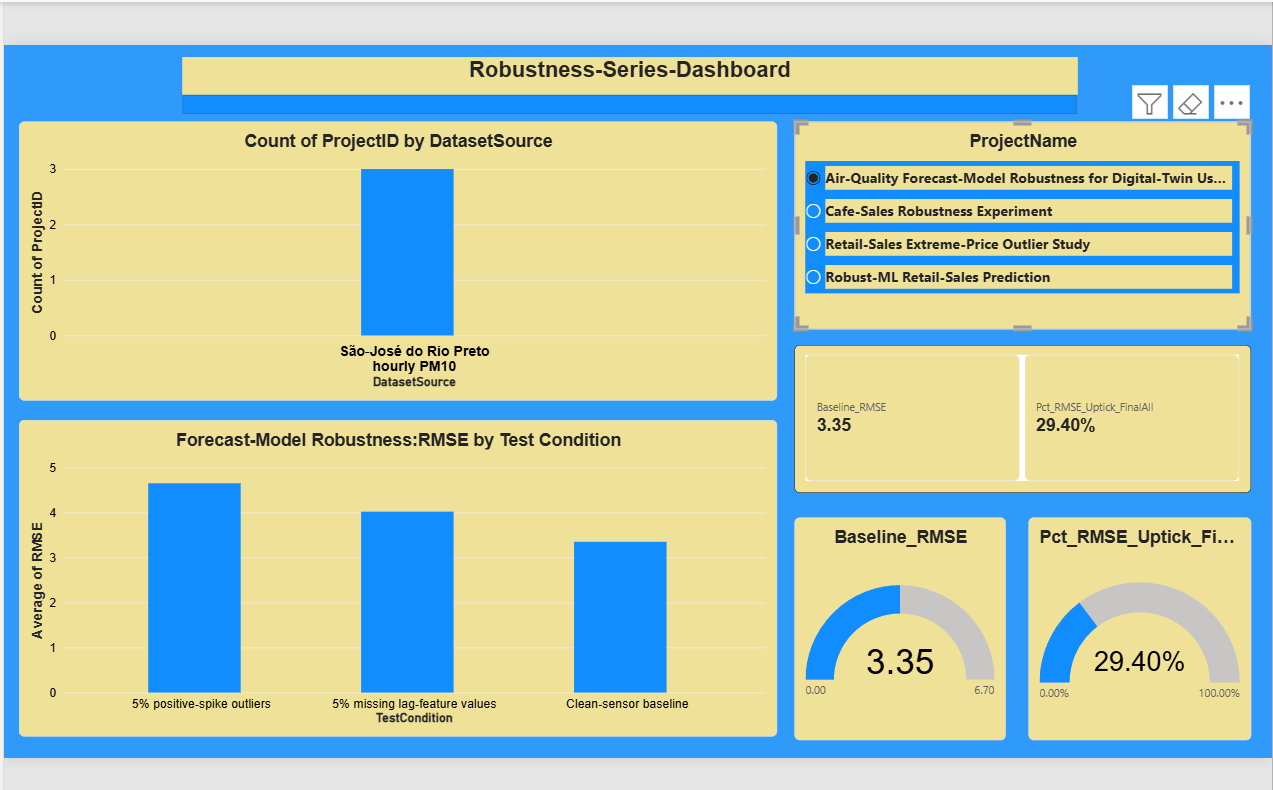

Layout of this report page (visuals, bound fields, positions):
{"tool":"powerbi","page":{"name":"Page 1","canvas":[1920,1080],"ordinal":0},"visuals":[{"type":"clusteredColumnChart","title":"Forecast-Model Robustness:RMSE by Test Condition","fields":{"Category":["robustness_summary.TestCondition"],"Y":["Avg(robustness_summary.RMSE)"]},"box":[22.7,566.9,1148,479.1],"z":0},{"type":"listSlicer","fields":{"Values":["robustness_summary.ProjectName"]},"box":[1196.2,116.2,691.7,314.6],"z":1},{"type":"cardVisual","fields":{"Data":["robustness_summary.Baseline_RMSE","robustness_summary.Pct_RMSE_Rise"]},"box":[1196.2,453.5,691.7,223.9],"z":2},{"type":"gauge","fields":{"Y":["robustness_summary.Pct_RMSE_Uptick_FinalAll"]},"box":[1550.6,714.3,337.3,337.3],"z":3},{"type":"gauge","fields":{"Y":["robustness_summary.Baseline_RMSE"]},"box":[1196.2,714.3,320.3,337.3],"z":4},{"type":"lineClusteredColumnComboChart","fields":{"Category":["robustness_summary.DatasetSource"],"Y":["CountNonNull(robustness_summary.ProjectID)"]},"box":[22.7,116.2,1148,422.4],"z":5}]}

Visuals, with their boxes in screenshot pixels (x1, y1, x2, y2):
"Forecast-Model Robustness:RMSE by Test Condition" clusteredColumnChart: detection(25, 417, 775, 730)
listSlicer - robustness_summary.ProjectName: detection(792, 122, 1244, 328)
cardVisual - robustness_summary.Baseline_RMSE x robustness_summary.Pct_RMSE_Rise: detection(792, 343, 1244, 489)
gauge - robustness_summary.Pct_RMSE_Uptick_FinalAll: detection(1024, 513, 1244, 734)
gauge - robustness_summary.Baseline_RMSE: detection(792, 513, 1002, 734)
lineClusteredColumnComboChart - robustness_summary.DatasetSource x CountNonNull(robustness_summary.ProjectID): detection(25, 122, 775, 399)
